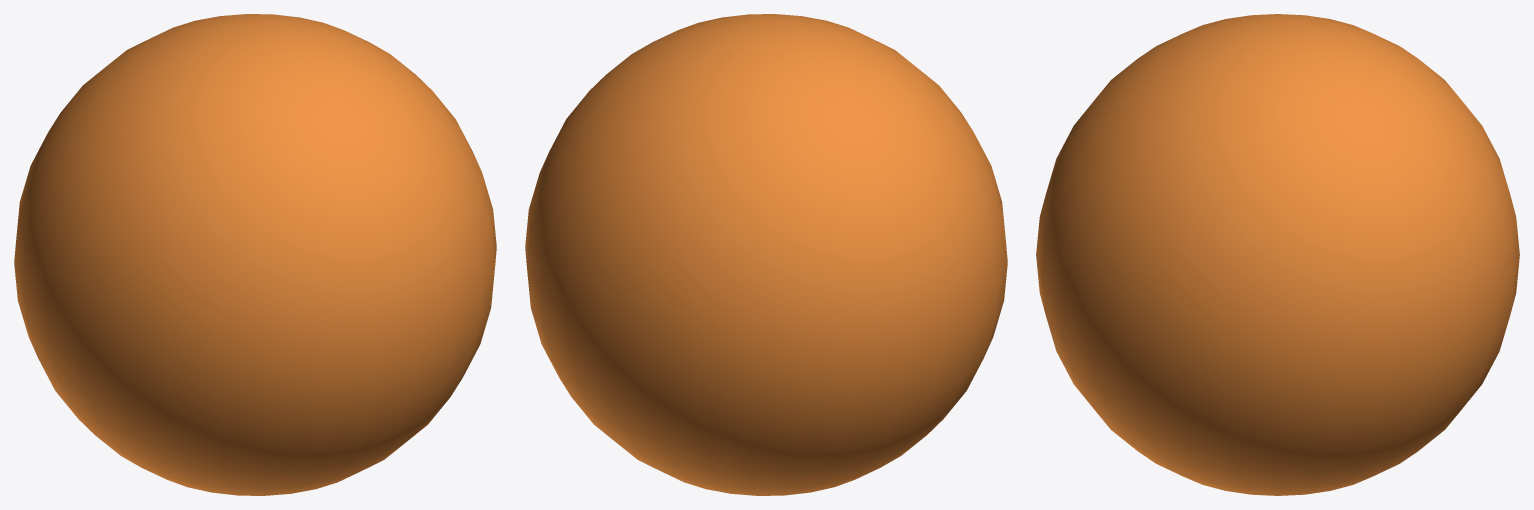
The model's file is SSRReflection.glb.
3 renders of one model, left to right at view 1: azimuth 30°, elevation 25°; view 2: azimuth 150°, elevation 25°; view 3: azimuth 270°, elevation 25°, orthographic.
Parts seen in each view (by area): view 1: sphere; view 2: sphere; view 3: sphere.
Part boxes in pixels (bbox=[...]): sphere: bbox=[14, 14, 496, 495]; sphere: bbox=[525, 14, 1007, 495]; sphere: bbox=[1036, 14, 1519, 495].
Size of what is drawn, in the model's own units: 0.9 by 0.9 by 0.9.
